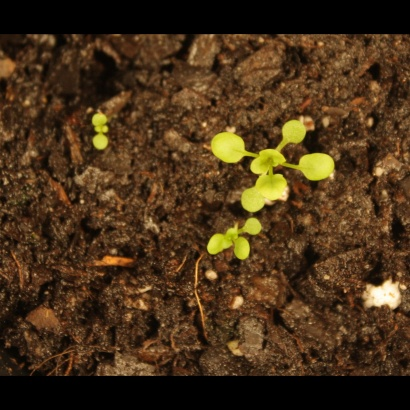leaf: (294, 151, 339, 183), (208, 132, 247, 165), (256, 171, 293, 205), (233, 183, 270, 215), (251, 149, 290, 176), (276, 114, 308, 146), (202, 228, 226, 260), (229, 236, 253, 263), (89, 133, 112, 156), (88, 109, 111, 132), (242, 215, 265, 238)
